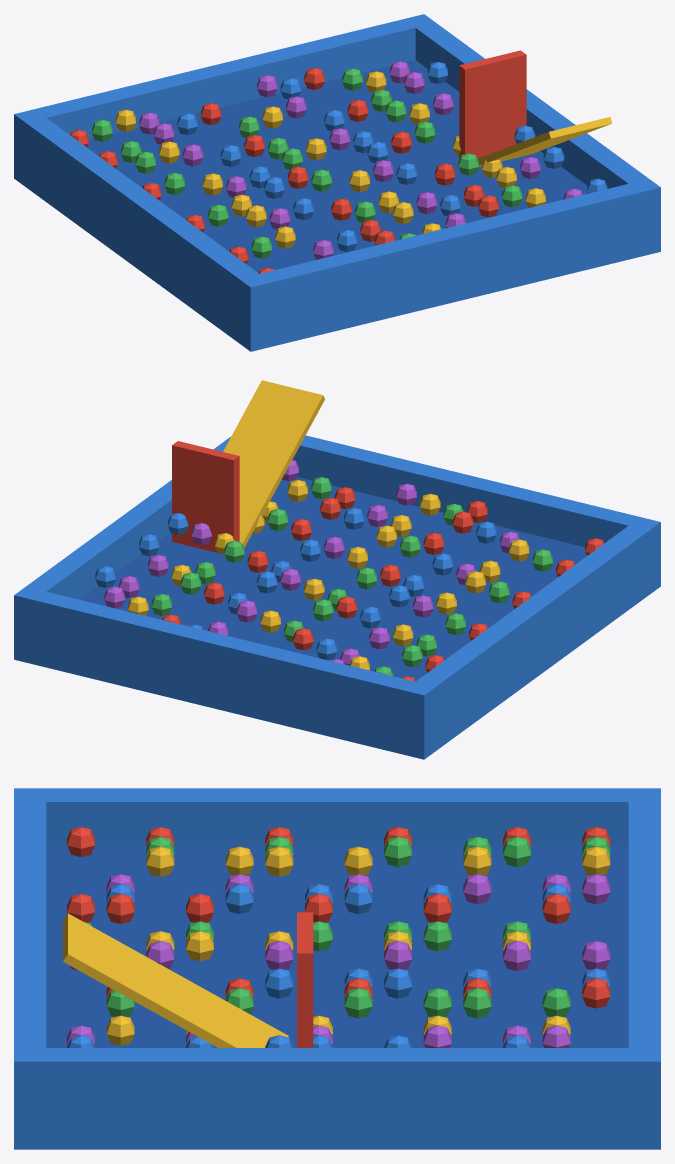
Rendered from ball_pit.glb.
The picture shows the model from 3 angles, top to bottom: view 1: azimuth 30°, elevation 25°; view 2: azimuth 150°, elevation 25°; view 3: azimuth 270°, elevation 25°; orthographic projection. The views are drawn at different scales.
Visible parts, largest first — view 1: rim_pit_pad, floor_pit_floor, balls_3, ladder_slide_ladder, balls_1, balls_4, balls_2, balls_0, slide_slide_yellow; view 2: rim_pit_pad, floor_pit_floor, slide_slide_yellow, balls_3, balls_1, ladder_slide_ladder, balls_4, balls_0, balls_2; view 3: rim_pit_pad, floor_pit_floor, slide_slide_yellow, balls_3, balls_4, balls_0, balls_1, balls_2, ladder_slide_ladder.
Part boxes in pixels (bbox=[...]): rim_pit_pad: bbox=[14, 14, 660, 351]; floor_pit_floor: bbox=[87, 60, 587, 272]; balls_3: bbox=[92, 68, 522, 258]; ladder_slide_ladder: bbox=[459, 50, 526, 159]; balls_1: bbox=[115, 71, 545, 248]; balls_4: bbox=[139, 61, 582, 259]; balls_2: bbox=[177, 62, 607, 251]; balls_0: bbox=[70, 68, 498, 273]; slide_slide_yellow: bbox=[478, 117, 612, 166]; rim_pit_pad: bbox=[14, 435, 660, 759]; floor_pit_floor: bbox=[80, 477, 586, 681]; slide_slide_yellow: bbox=[223, 380, 324, 547]; balls_3: bbox=[151, 477, 552, 676]; balls_1: bbox=[128, 480, 529, 670]; ladder_slide_ladder: bbox=[172, 441, 239, 552]; balls_4: bbox=[104, 460, 519, 665]; balls_0: bbox=[162, 487, 603, 681]; balls_2: bbox=[95, 507, 496, 660]; rim_pit_pad: bbox=[14, 788, 660, 1149]; floor_pit_floor: bbox=[46, 846, 628, 1047]; slide_slide_yellow: bbox=[63, 913, 288, 1047]; balls_3: bbox=[84, 836, 610, 1018]; balls_4: bbox=[67, 874, 610, 1047]; balls_0: bbox=[67, 827, 610, 1008]; balls_1: bbox=[106, 846, 610, 1045]; balls_2: bbox=[67, 884, 610, 1047]; ladder_slide_ladder: bbox=[297, 912, 313, 1047].
Bounding box in the file's own units: 4 × 1.2 × 4.
